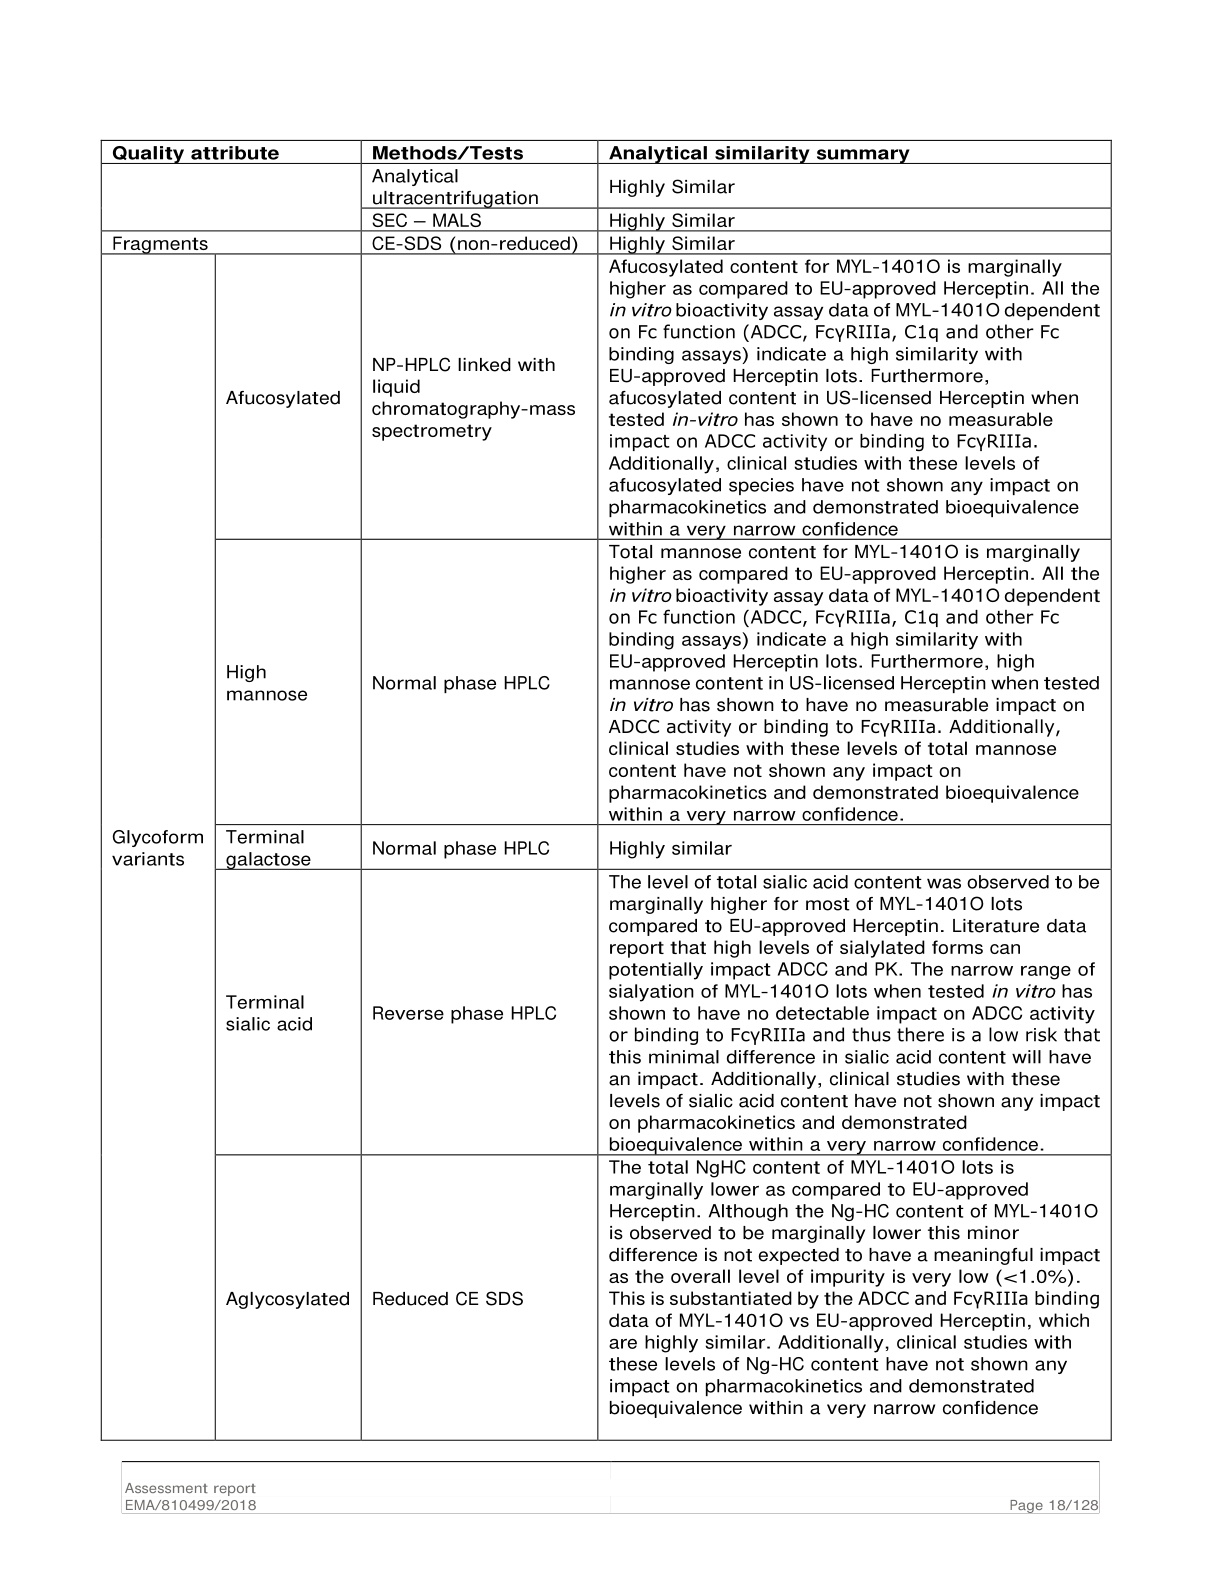merged_cells: (99, 139, 1113, 1443)
